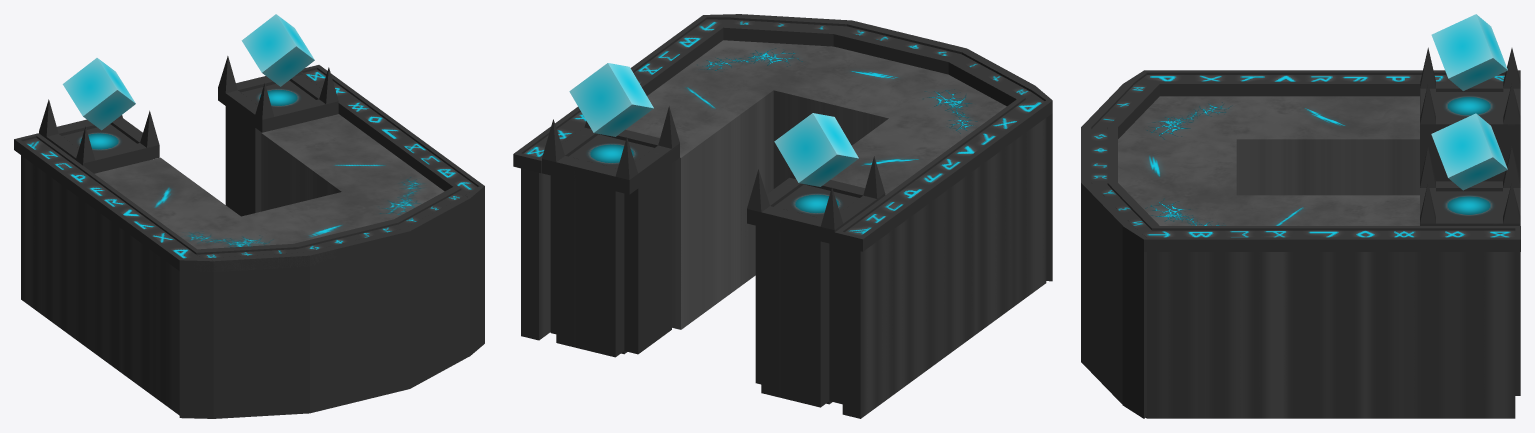
Rendered from Boss_B.fbx.
The picture shows the model from 3 angles, left to right: view 1: azimuth 30°, elevation 25°; view 2: azimuth 150°, elevation 25°; view 3: azimuth 270°, elevation 25°; orthographic projection. The views are drawn at different scales.
Visible parts, largest first — view 1: Plane001; view 2: Plane001; view 3: Plane001.
Part boxes in pixels (<box>): Plane001: <box>14,14,484,418</box>; Plane001: <box>513,14,1052,418</box>; Plane001: <box>1081,14,1520,418</box>.
Bounding box in the file's own units: 628 × 475 × 690.
1 material, 1 textured.
